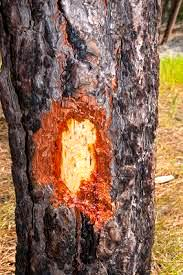Mammals Attack: (30, 99, 113, 215)
